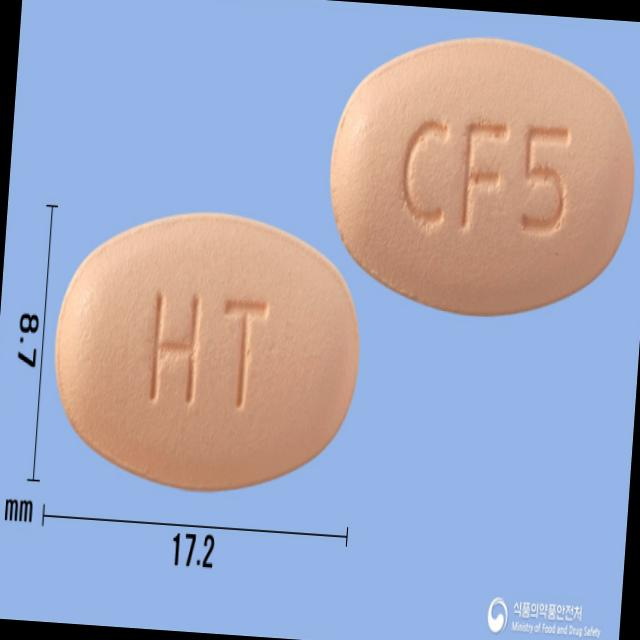Crafroxin Tab: (45, 200, 368, 504), (319, 24, 640, 326)
